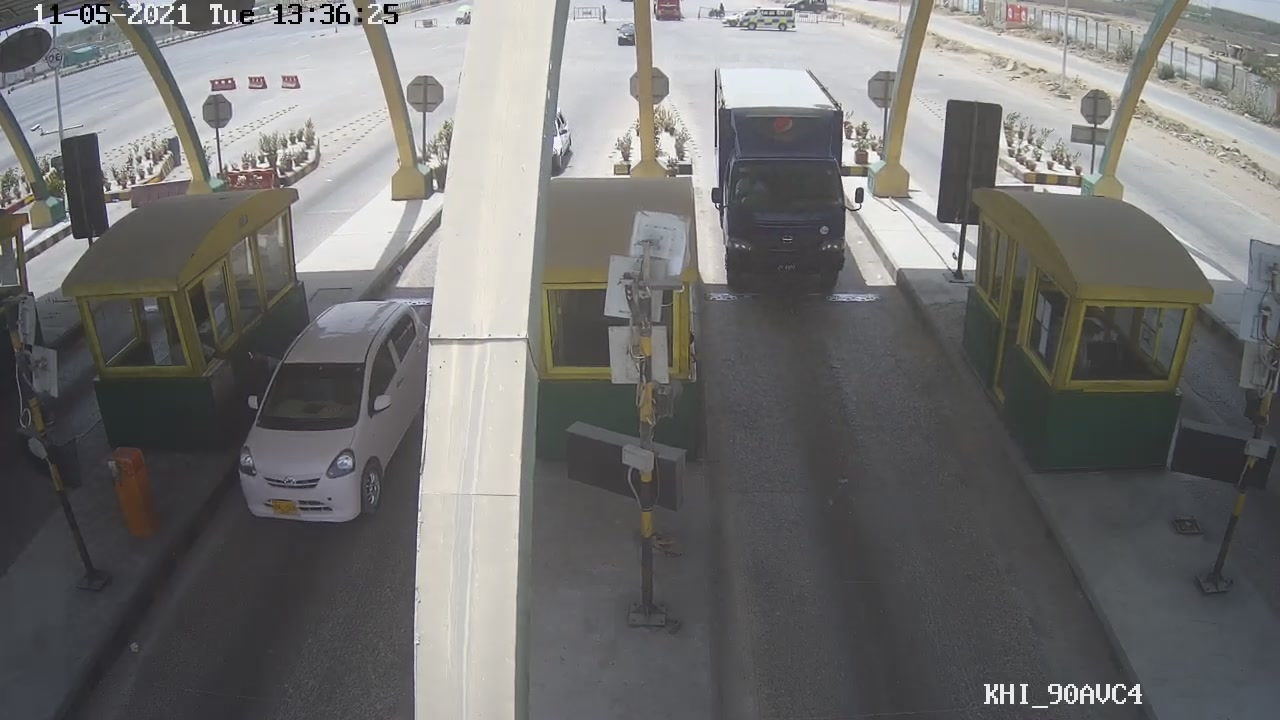F5: (704, 61, 863, 305)
